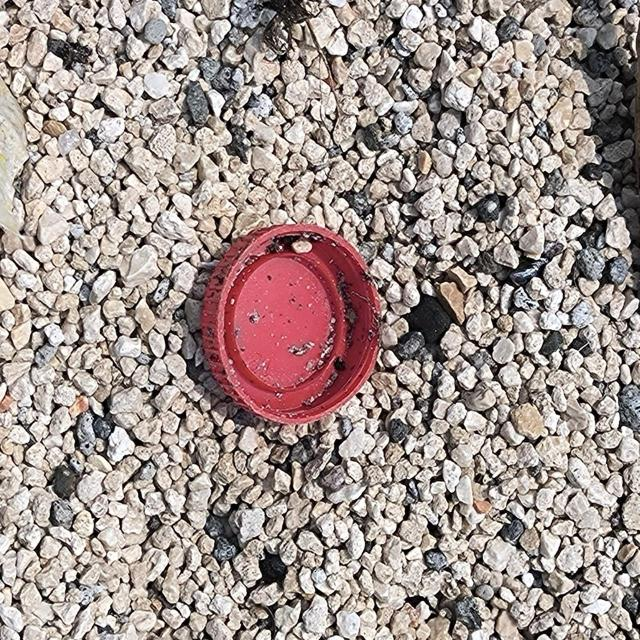plastic_waste: (202, 223, 382, 426)
